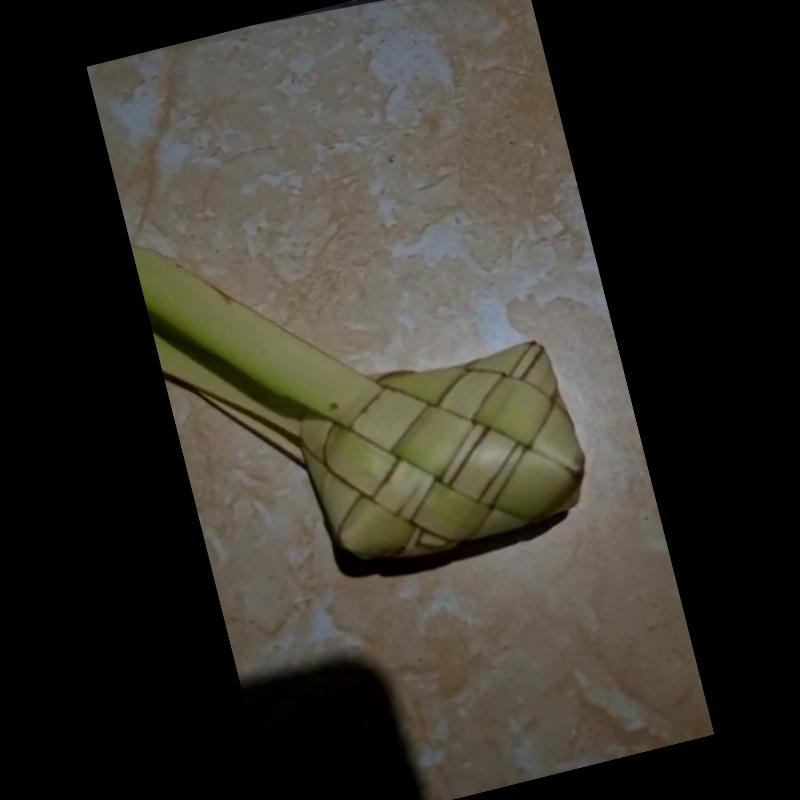Tipat Bantal: (129, 219, 595, 582)
